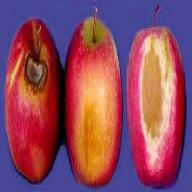apple: (63, 17, 122, 181), (128, 28, 184, 181), (7, 24, 62, 178)
